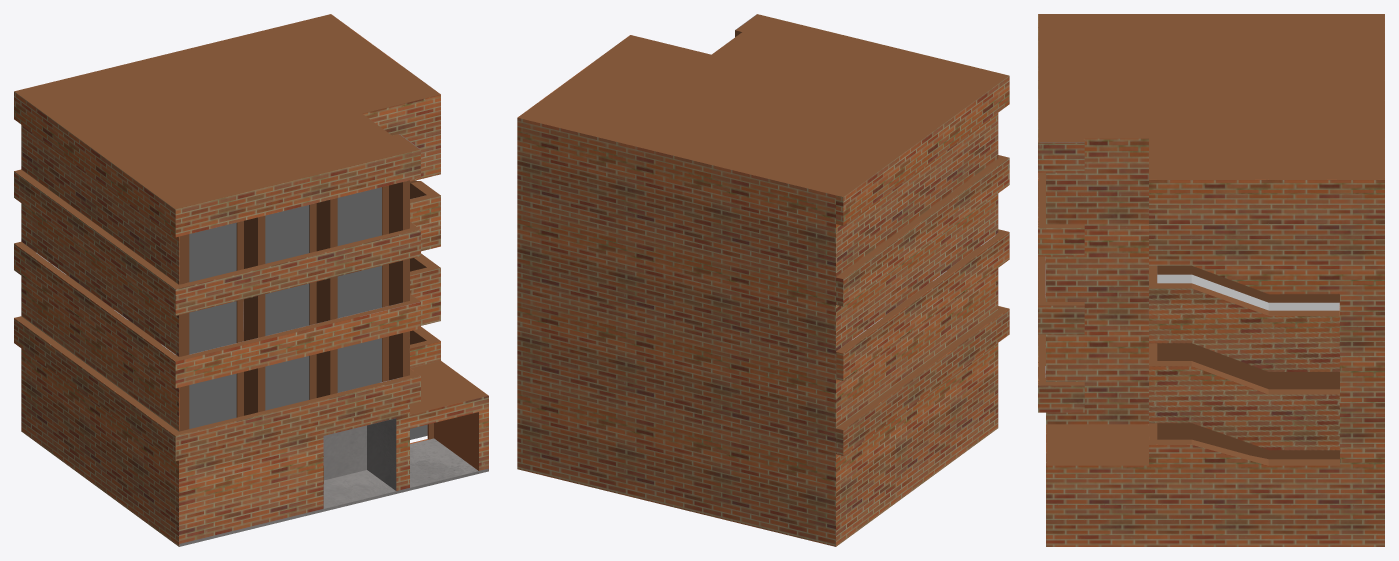
The model's file is apartment.fbx.
The picture shows the model from 3 angles, left to right: view 1: azimuth 30°, elevation 25°; view 2: azimuth 150°, elevation 25°; view 3: azimuth 270°, elevation 25°; orthographic projection. The views are drawn at different scales.
Parts seen in each view (by area): view 1: wall, glass594, glass596, glass597, glass593, glass591, glass592, glass590, glass598, glass595; view 2: wall; view 3: wall.
Boxes of the visible parts, bbox=[...] form: wall: bbox=[14, 14, 488, 546]; glass594: bbox=[189, 222, 236, 282]; glass596: bbox=[265, 205, 309, 263]; glass597: bbox=[337, 187, 381, 245]; glass593: bbox=[189, 373, 236, 428]; glass591: bbox=[189, 301, 236, 354]; glass592: bbox=[337, 338, 381, 392]; glass590: bbox=[265, 356, 309, 410]; glass598: bbox=[337, 265, 381, 318]; glass595: bbox=[265, 283, 309, 335]; wall: bbox=[517, 14, 1009, 546]; wall: bbox=[1038, 14, 1384, 546].
Size of the model in its own units: 1740 by 1793 by 1535.
2 materials, 2 textured.
